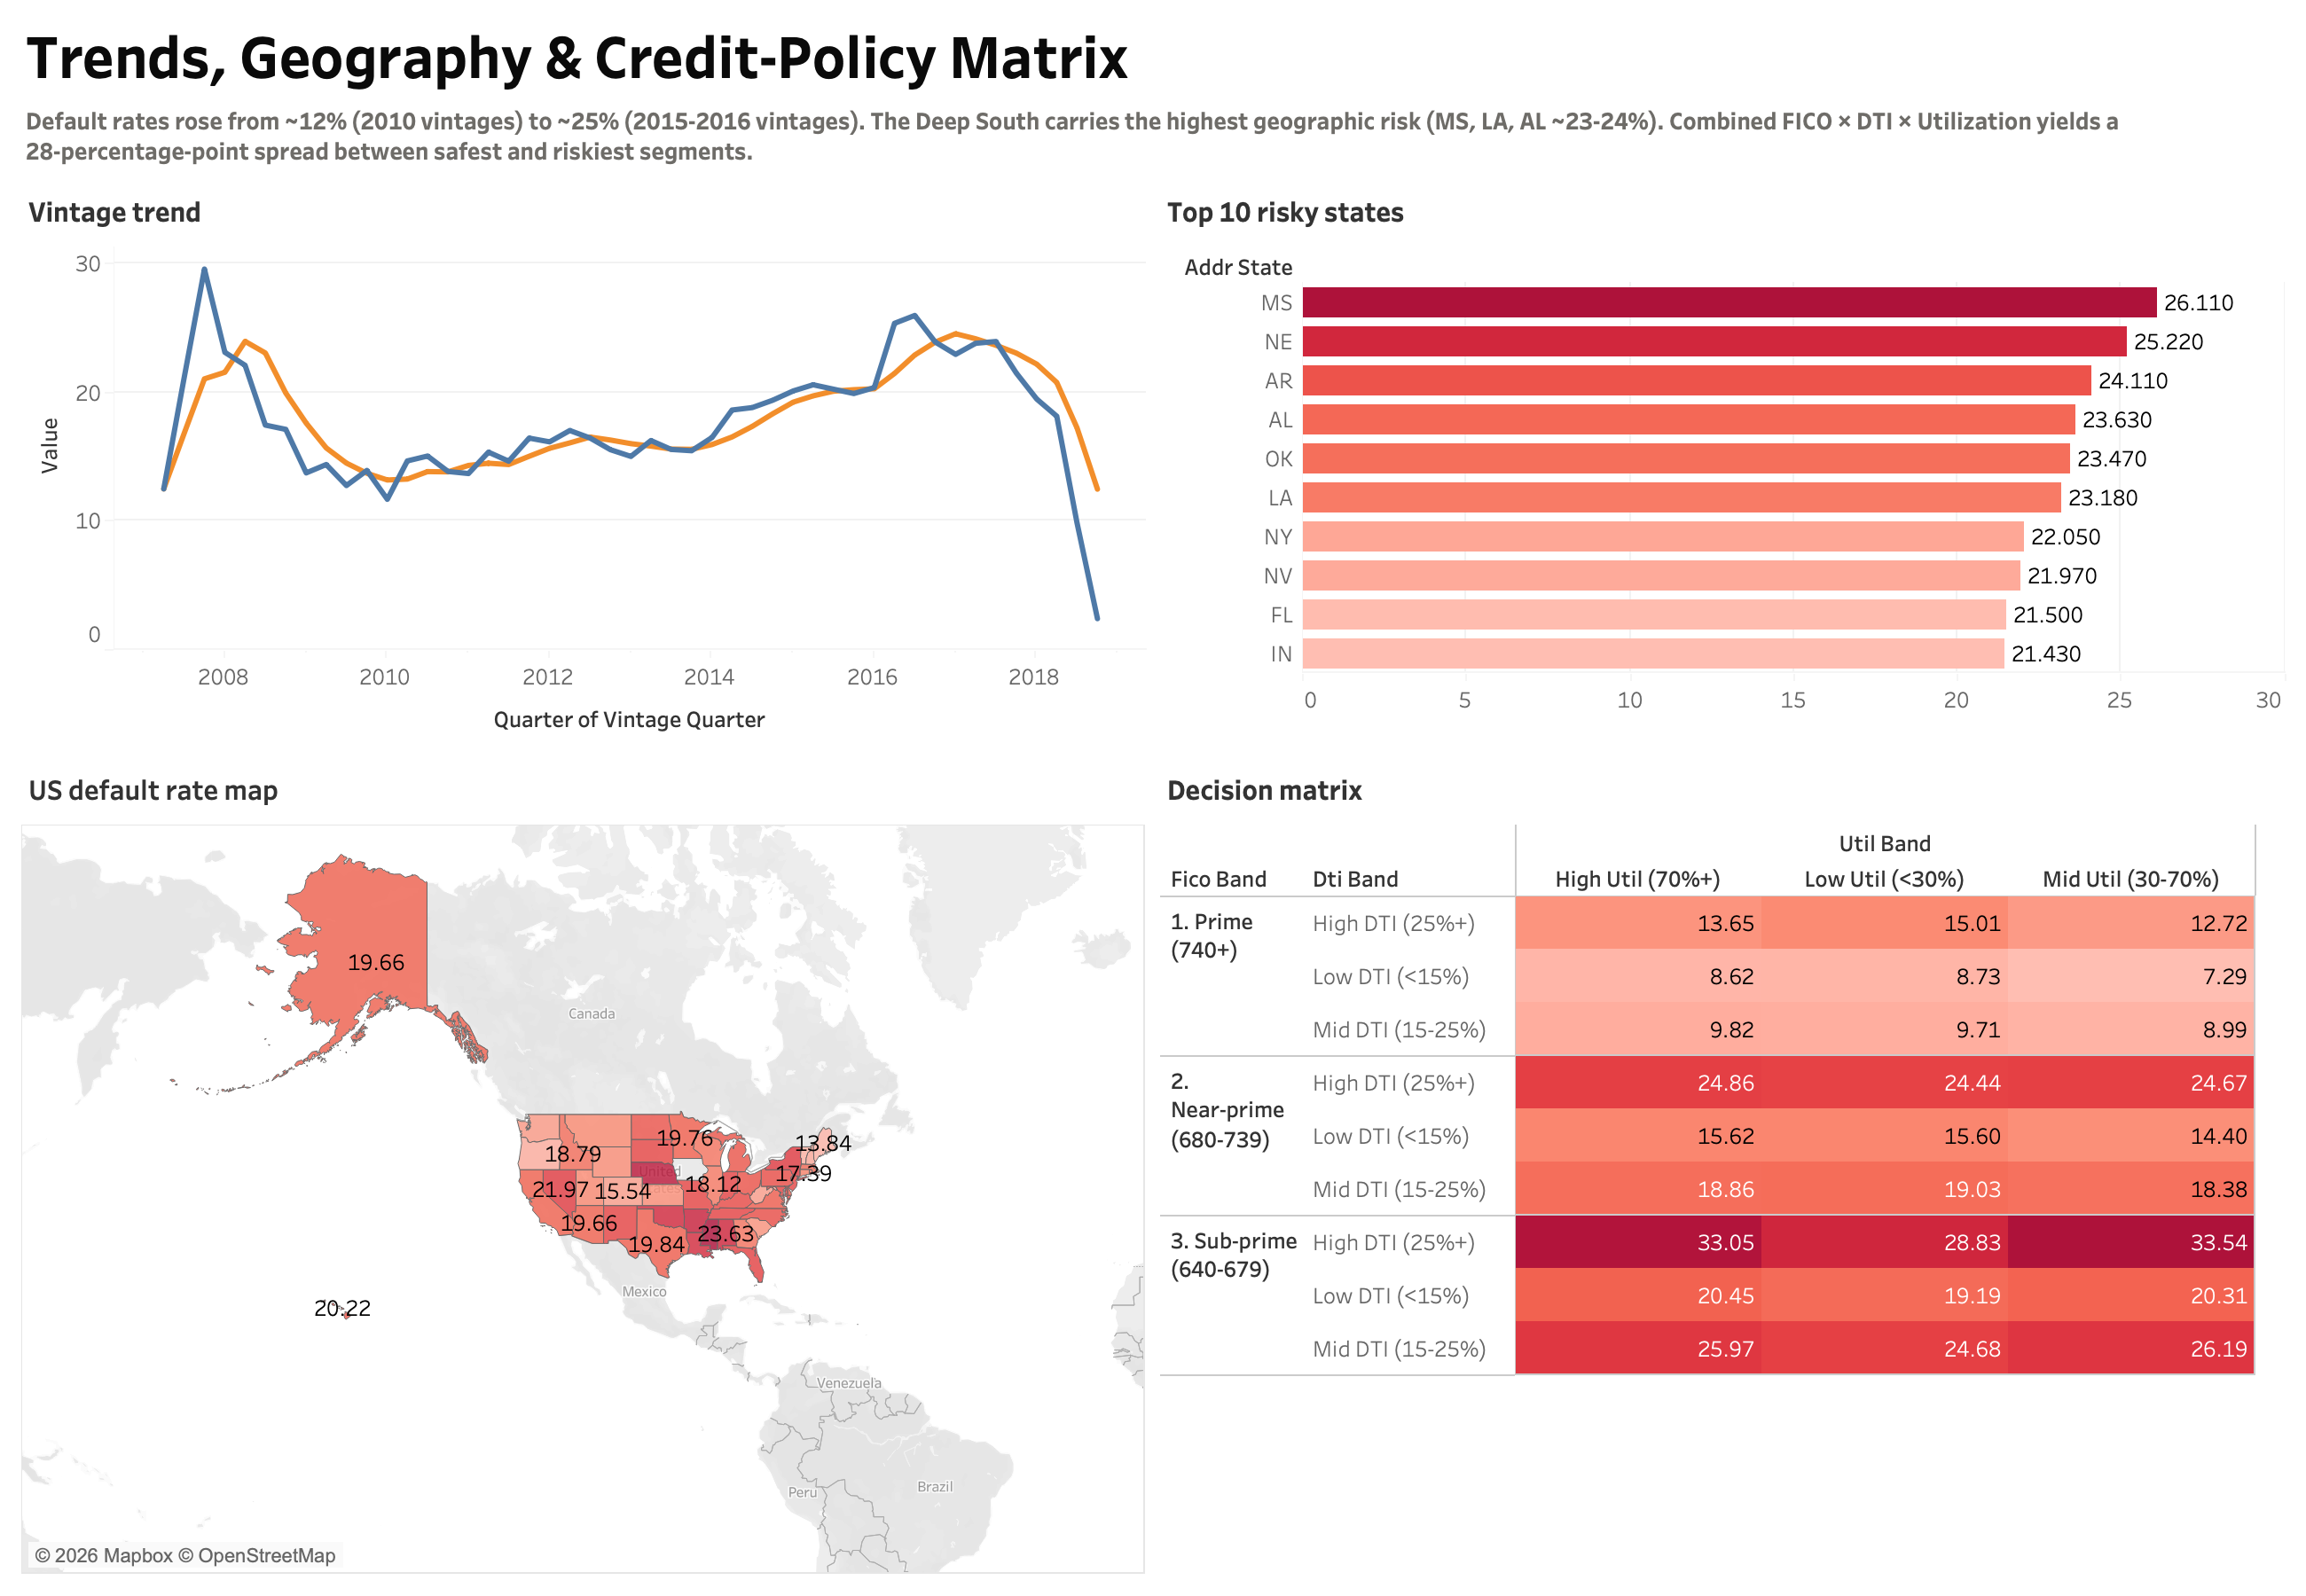

What the dashboard file says about the page in this screenshot:
{"tool":"tableau","page":{"name":"4. Trends, Geo & Matrix","canvas":[1300,900],"ordinal":3},"visuals":[{"type":"title","box":[8,8,1284,46]},{"type":"text","box":[8,54,1284,45]},{"type":"worksheet","title":"Vintage trend","mark":"Automatic","cols":["vintage_quarter"],"box":[8,99,642,325.6]},{"type":"worksheet","title":"Top 10 risky states","mark":"Automatic","rows":["addr_state"],"cols":["default_rate_pct"],"box":[650,99,642,325.6]},{"type":"worksheet","title":"US default rate map","mark":"Multipolygon","box":[8,424.6,642,467.4]},{"type":"worksheet","title":"Decision matrix","mark":"Square","rows":["fico_band","dti_band"],"cols":["util_band"],"box":[650,424.6,642,467.4]}]}

Visuals, with their boxes in screenshot pixels (x1, y1, x2, y2), scaled from the page's 1300x900 canvas onto the 2306x1596 screenshot:
title: crop(14, 14, 2292, 96)
text: crop(14, 96, 2292, 176)
"Vintage trend" worksheet: crop(14, 176, 1153, 753)
"Top 10 risky states" worksheet: crop(1153, 176, 2292, 753)
"US default rate map" worksheet (Multipolygon marks): crop(14, 753, 1153, 1582)
"Decision matrix" worksheet (Square marks): crop(1153, 753, 2292, 1582)
